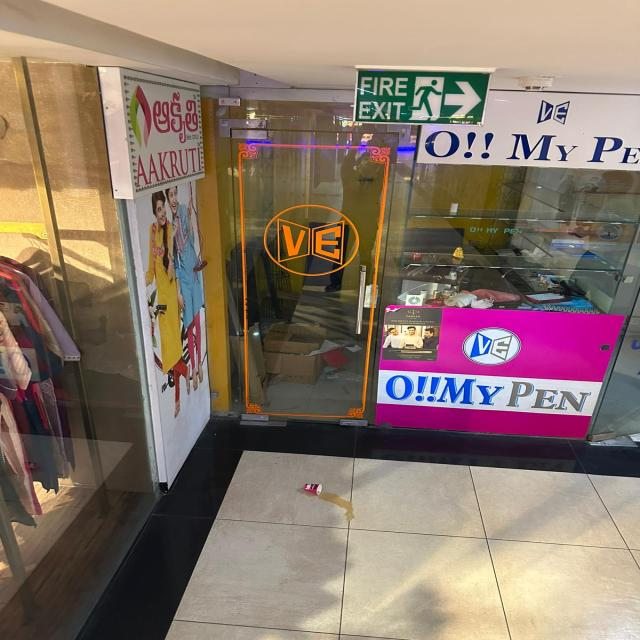cup: (304, 484, 322, 493)
spill: (317, 491, 355, 522)
